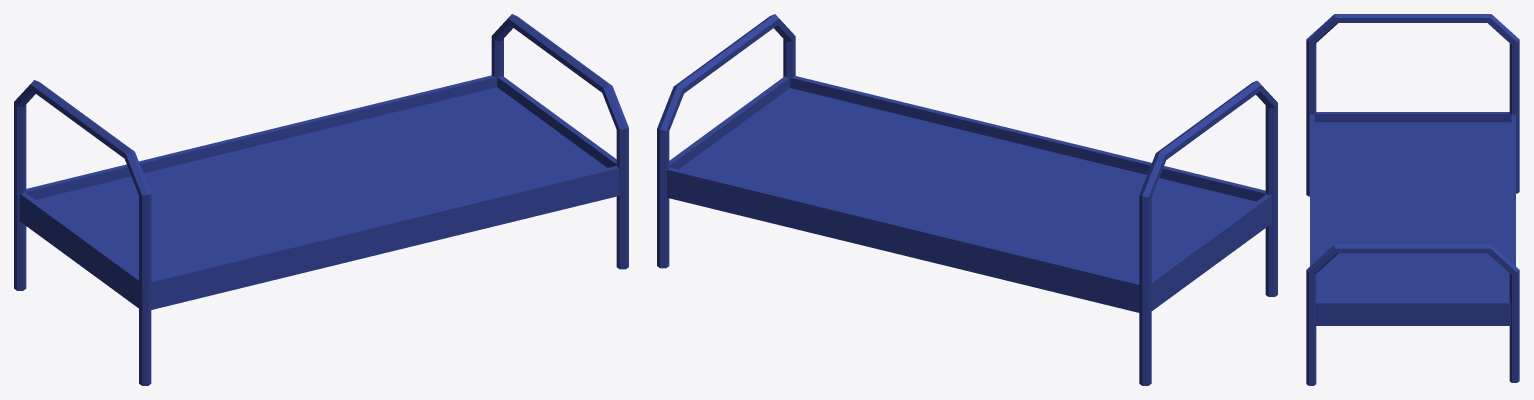
The model's file is Bed_02.fbx.
3 renders of one model, left to right at view 1: azimuth 30°, elevation 25°; view 2: azimuth 150°, elevation 25°; view 3: azimuth 270°, elevation 25°, orthographic. The views are drawn at different scales.
Visible parts, largest first — view 1: Bed_01; view 2: Bed_01; view 3: Bed_01.
Part boxes in pixels (box(x1,y1,x2,y2)): Bed_01: box(14, 14, 628, 385); Bed_01: box(657, 14, 1277, 385); Bed_01: box(1306, 14, 1519, 385).
Size of the model in its own units: 183 by 80.2 by 85.66.
Materials: 1 (1 with a texture image).
